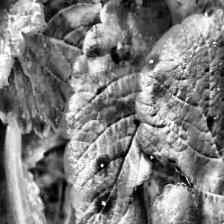Leaf Spot: (60, 0, 174, 224), (133, 5, 224, 224), (0, 0, 46, 189)
